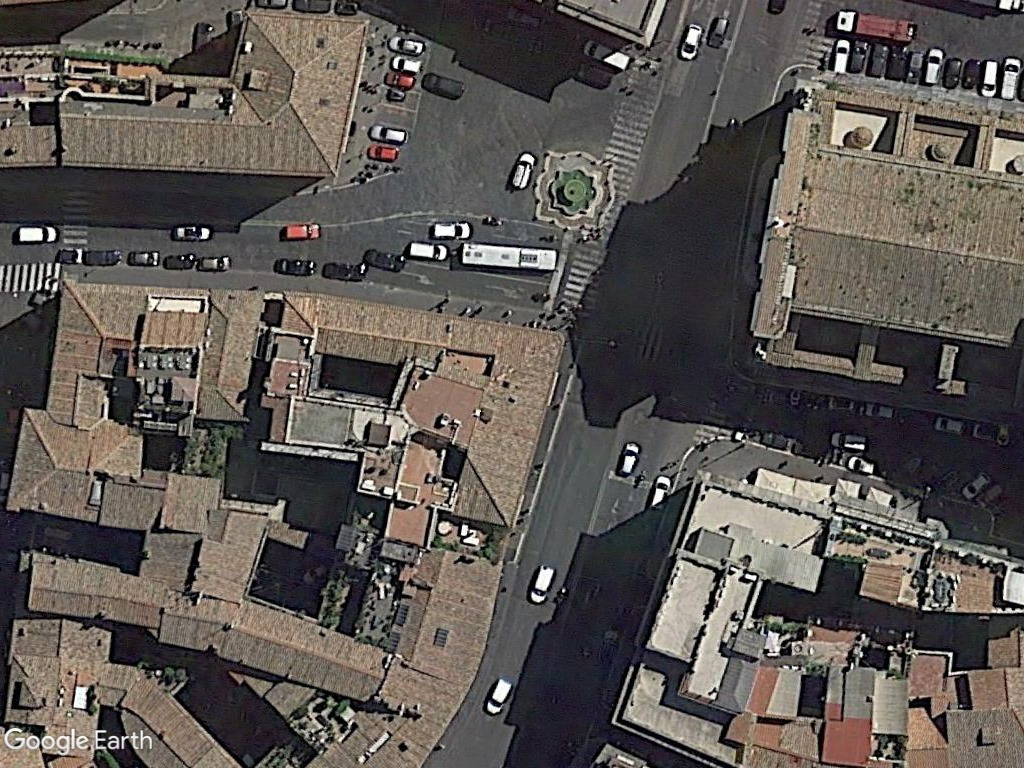bus: (458, 239, 561, 277)
car: (362, 243, 411, 274), (363, 119, 414, 147), (677, 18, 703, 67), (323, 258, 371, 284), (648, 472, 676, 515), (271, 254, 319, 279), (385, 33, 432, 58), (859, 397, 902, 424), (923, 41, 946, 89), (280, 218, 325, 242), (963, 467, 991, 505), (168, 221, 218, 242), (618, 438, 643, 479), (828, 427, 869, 452), (827, 36, 852, 75), (707, 9, 733, 46), (933, 414, 971, 438), (158, 249, 197, 272), (195, 251, 233, 274), (382, 68, 421, 90), (364, 144, 406, 164), (124, 248, 161, 267)
other: (82, 247, 127, 269)
truck: (828, 14, 923, 45)
van: (576, 36, 633, 74), (526, 557, 559, 610), (418, 72, 473, 103), (480, 673, 516, 718), (996, 50, 1022, 103), (509, 145, 537, 193), (405, 237, 453, 263), (11, 221, 60, 246), (428, 217, 476, 241), (979, 50, 999, 101)
